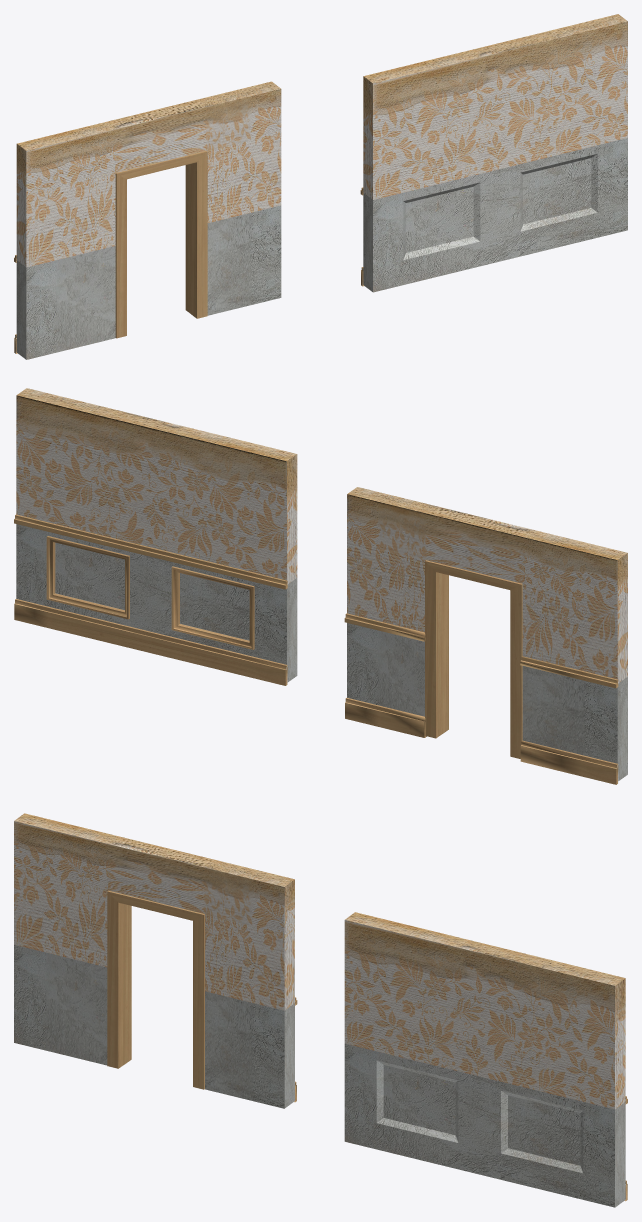
Rendered from Paredes.fbx.
3 views of the same model, one above another, from view 1: azimuth 30°, elevation 25°; view 2: azimuth 150°, elevation 25°; view 3: azimuth 330°, elevation 25° (orthographic). The views are drawn at different scales.
Parts seen in each view (by area): view 1: parque_CS.005, parede_sul_CO.060; view 2: parque_CS.005, parede_sul_CO.060; view 3: parque_CS.005, parede_sul_CO.060.
Boxes of the visible parts, left/top/right/bottom form: parque_CS.005: left=360, top=14, right=627, bottom=292; parede_sul_CO.060: left=14, top=81, right=281, bottom=359; parque_CS.005: left=14, top=388, right=297, bottom=685; parede_sul_CO.060: left=344, top=487, right=627, bottom=784; parque_CS.005: left=344, top=912, right=627, bottom=1207; parede_sul_CO.060: left=14, top=813, right=297, bottom=1108.
Bounding box in the file's own units: 920 × 316 × 80.02.
